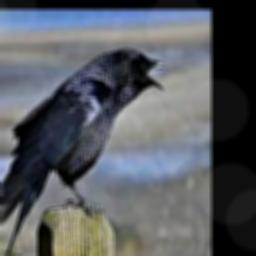Crow: (0, 46, 167, 256)
